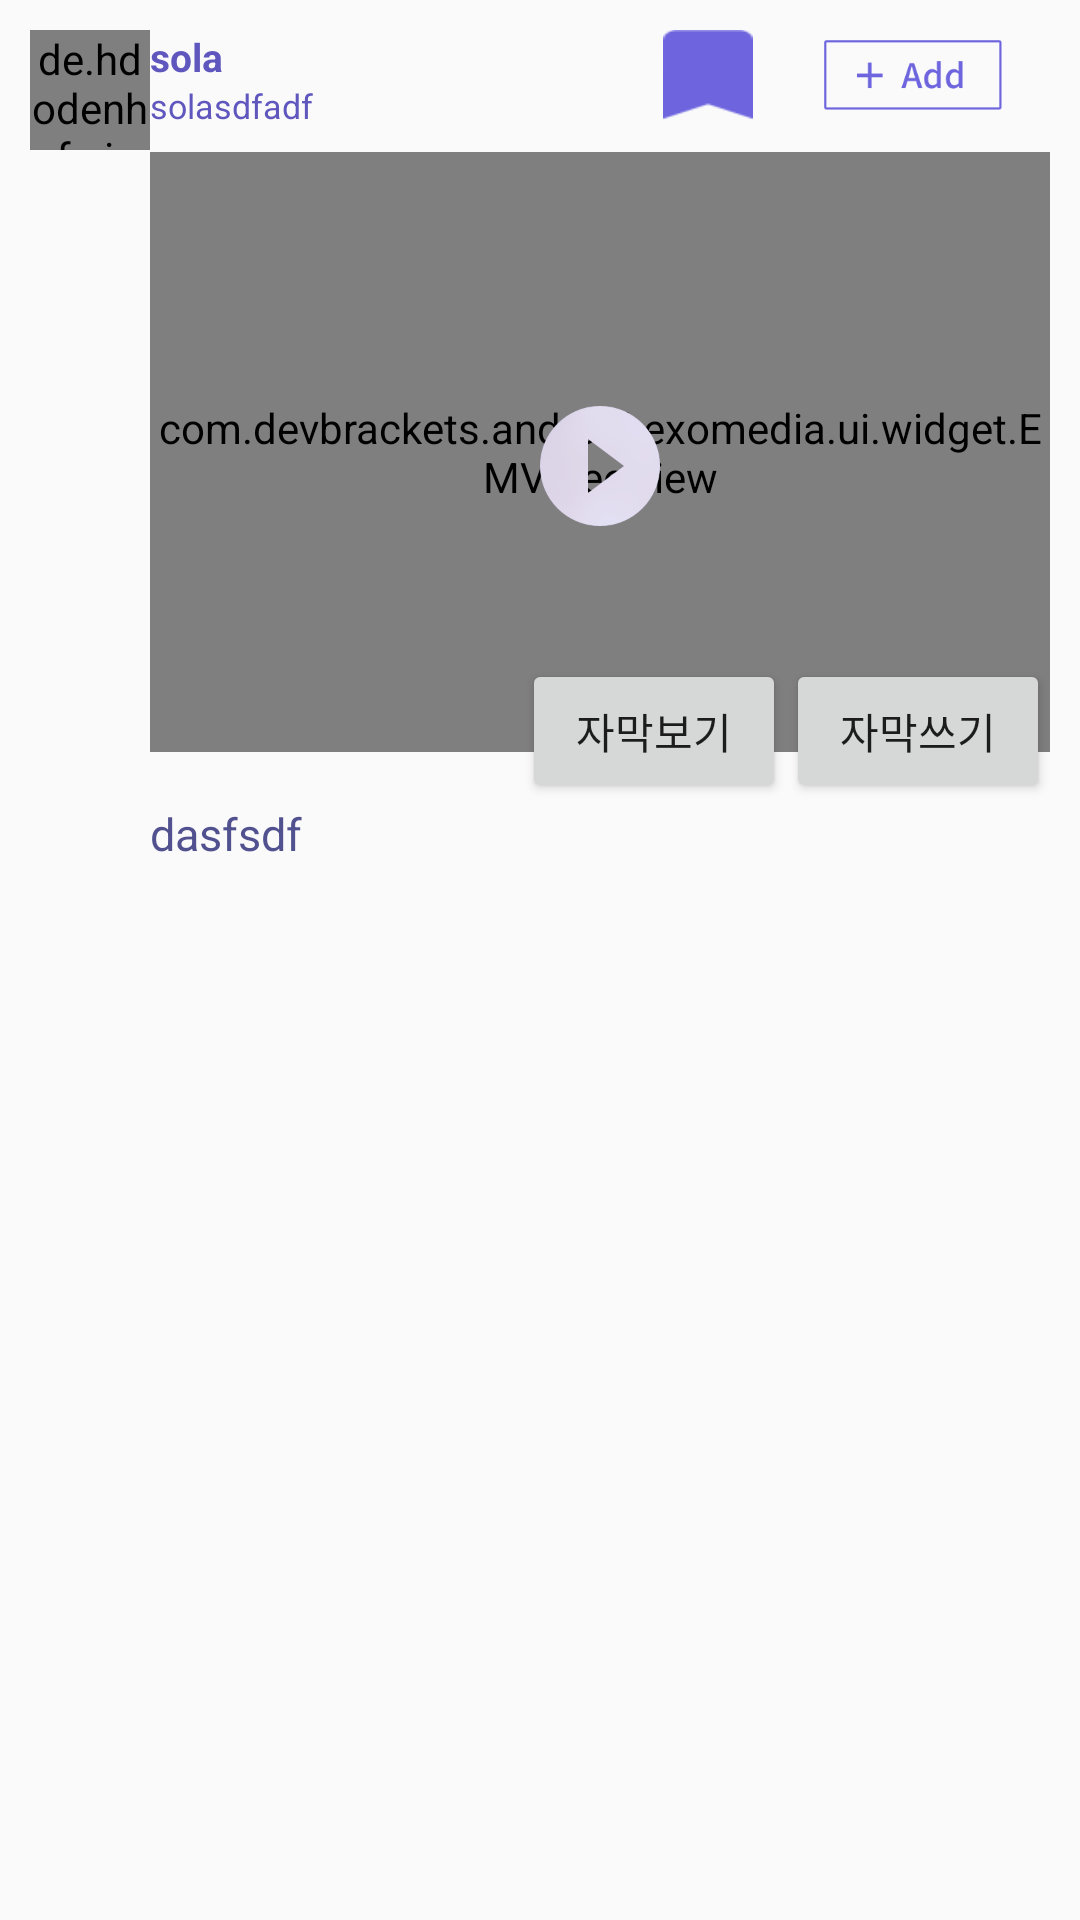

Named icons in this screenshot (1080 × 1920) and their centers, point (x, y):
bookmark pp press: point (708, 74)
